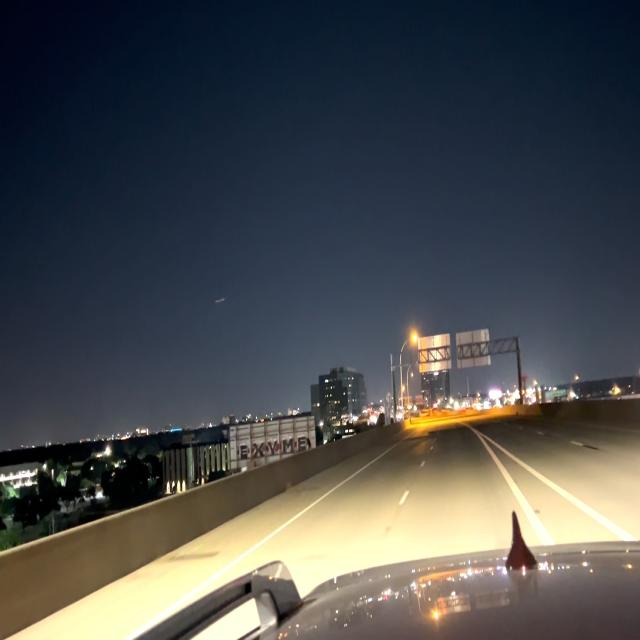back-of-sign: (456, 328, 491, 371), (416, 332, 450, 374)
